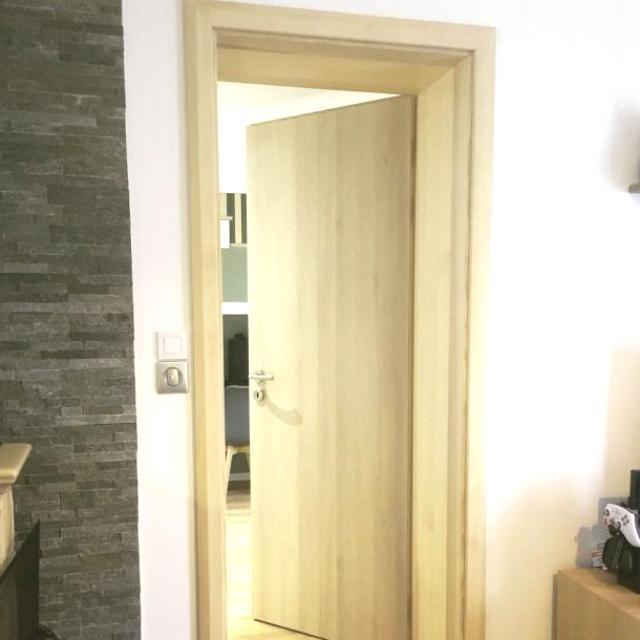door: (244, 92, 415, 638)
